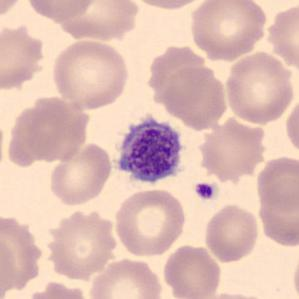Lymphocyte: (108, 110, 190, 192)
Platelets: (192, 181, 218, 201)
RBC: (49, 37, 131, 112), (5, 95, 90, 166), (43, 206, 120, 281), (222, 49, 296, 126), (111, 186, 188, 259), (188, 0, 270, 62), (46, 141, 114, 208), (200, 118, 268, 185), (149, 46, 217, 112), (160, 67, 229, 132), (0, 210, 42, 299), (53, 0, 140, 42), (202, 202, 261, 263), (161, 243, 223, 298), (87, 256, 165, 299), (255, 179, 299, 248), (0, 27, 43, 91), (253, 153, 298, 214), (23, 0, 100, 22), (25, 279, 93, 299), (123, 0, 212, 12), (283, 95, 299, 157), (195, 290, 274, 299), (0, 0, 28, 24), (0, 112, 7, 180), (290, 249, 299, 298)
